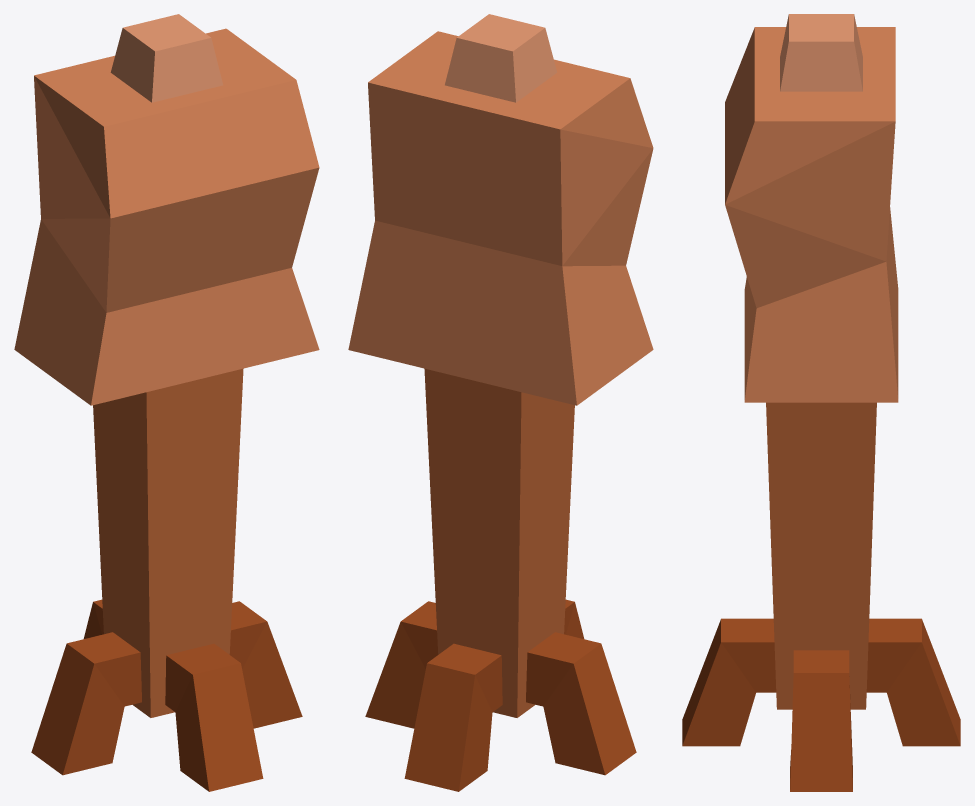
File: Mannequin 01.fbx
3 renders of one model, left to right at view 1: azimuth 30°, elevation 25°; view 2: azimuth 150°, elevation 25°; view 3: azimuth 270°, elevation 25°, orthographic.
Visible parts, largest first — view 1: Mannequin_01; view 2: Mannequin_01; view 3: Mannequin_01.
Part boxes in pixels (x1=…): Mannequin_01: x1=14, y1=14, x2=319, y2=791; Mannequin_01: x1=348, y1=14, x2=653, y2=791; Mannequin_01: x1=682, y1=14, x2=960, y2=791.
Size of the model in its own units: 49.98 by 140 by 49.98.
